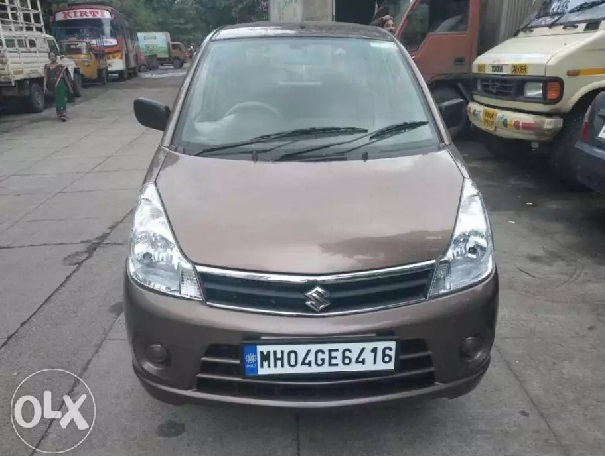licenseplate: (241, 341, 400, 376)
